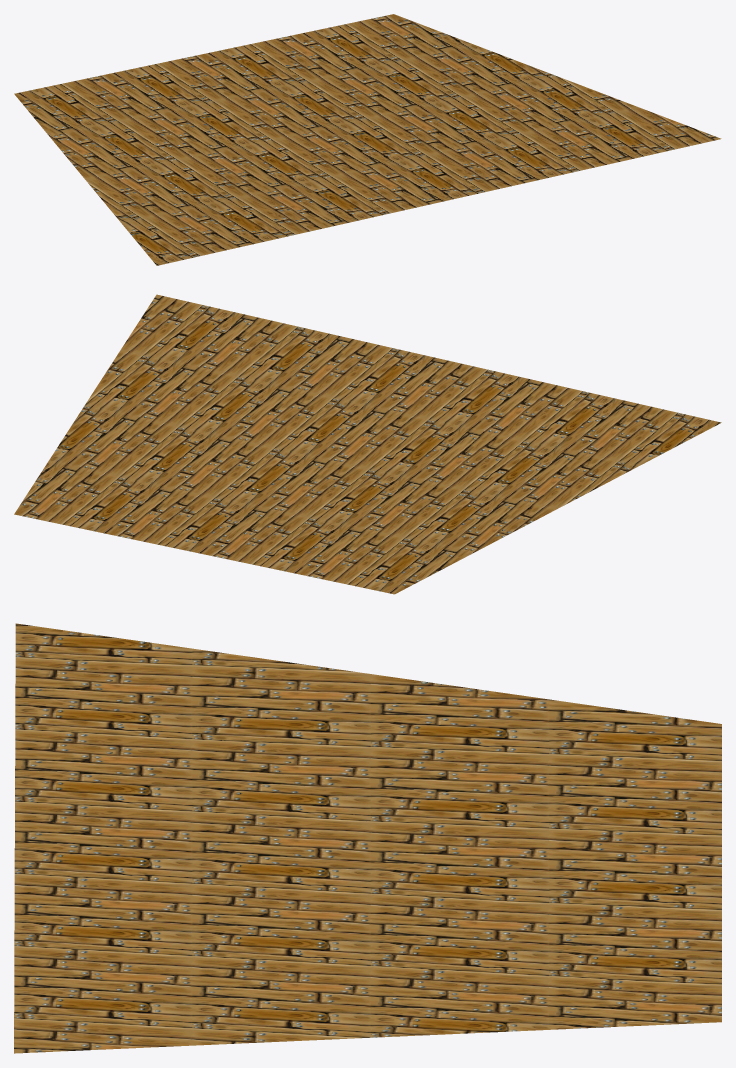
The model's file is Schiff_BugPlattform2_1278.glb.
The picture shows the model from 3 angles, top to bottom: view 1: azimuth 30°, elevation 25°; view 2: azimuth 150°, elevation 25°; view 3: azimuth 270°, elevation 25°; orthographic projection. The views are drawn at different scales.
Visible parts, largest first — view 1: ship_plattform_bugShape; view 2: ship_plattform_bugShape; view 3: ship_plattform_bugShape.
Boxes of the visible parts, left/top/right/bottom form: ship_plattform_bugShape: left=14, top=14, right=721, bottom=265; ship_plattform_bugShape: left=14, top=294, right=721, bottom=594; ship_plattform_bugShape: left=14, top=623, right=721, bottom=1053.
Bounding box in the file's own units: 1.81 × 0.1072 × 1.31.
Materials: 1 (1 with a texture image).
